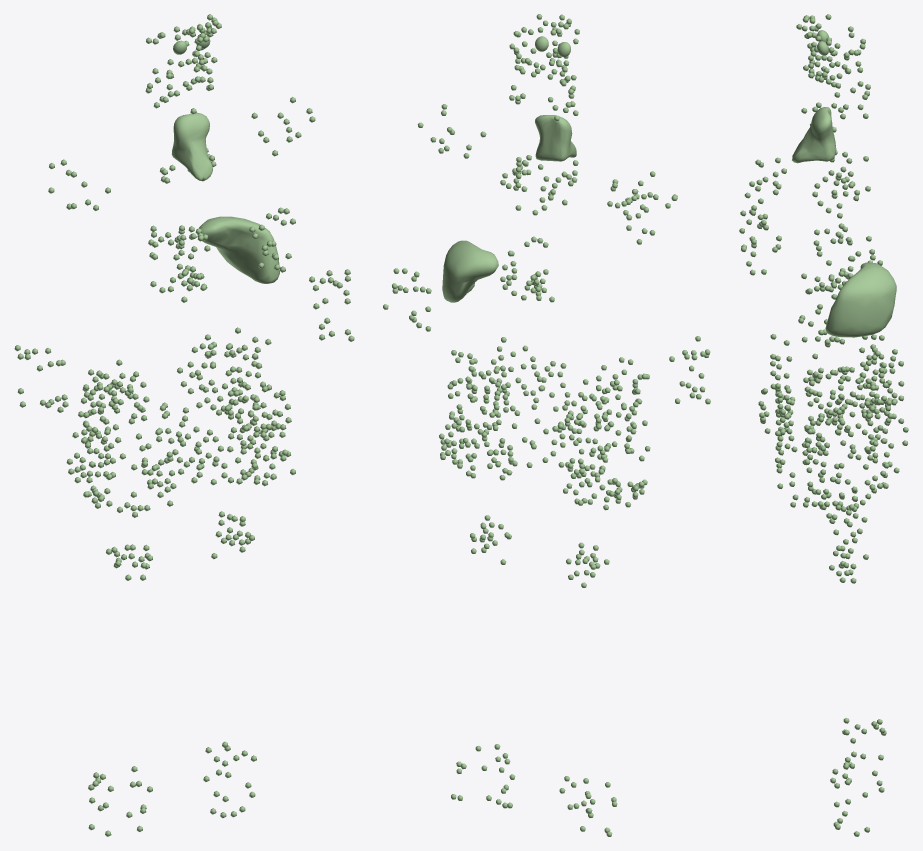
File: pediatric_child_10y_male.lymphatic.LOD1.glb
3 renders of one model, left to right at view 1: azimuth 30°, elevation 25°; view 2: azimuth 150°, elevation 25°; view 3: azimuth 270°, elevation 25°, orthographic. The views are drawn at different scales.
Visible parts, largest first — view 1: PEDIATRIC.CHILD_10Y.MALE.LYMPHATIC.LYMPHATIC_NODES_TRUNK, PEDIATRIC.CHILD_10Y.MALE.LYMPHATIC.SPLEEN, PEDIATRIC.CHILD_10Y.MALE.LYMPHATIC.THYMUS, PEDIATRIC.CHILD_10Y.MALE.LYMPHATIC.LYMPHATIC_NODES_ET, PEDIATRIC.CHILD_10Y.MALE.LYMPHATIC.LYMPHATIC_NODES_ARMS, PEDIATRIC.CHILD_10Y.MALE.LYMPHATIC.LYMPHATIC_NODES_LEGS, PEDIATRIC.CHILD_10Y.MALE.LYMPHATIC.LYMPHATIC_NODES_THORACIC; view 2: PEDIATRIC.CHILD_10Y.MALE.LYMPHATIC.LYMPHATIC_NODES_TRUNK, PEDIATRIC.CHILD_10Y.MALE.LYMPHATIC.SPLEEN, PEDIATRIC.CHILD_10Y.MALE.LYMPHATIC.THYMUS, PEDIATRIC.CHILD_10Y.MALE.LYMPHATIC.LYMPHATIC_NODES_ET, PEDIATRIC.CHILD_10Y.MALE.LYMPHATIC.LYMPHATIC_NODES_THORACIC, PEDIATRIC.CHILD_10Y.MALE.LYMPHATIC.LYMPHATIC_NODES_LEGS, PEDIATRIC.CHILD_10Y.MALE.LYMPHATIC.LYMPHATIC_NODES_ARMS; view 3: PEDIATRIC.CHILD_10Y.MALE.LYMPHATIC.LYMPHATIC_NODES_TRUNK, PEDIATRIC.CHILD_10Y.MALE.LYMPHATIC.SPLEEN, PEDIATRIC.CHILD_10Y.MALE.LYMPHATIC.THYMUS, PEDIATRIC.CHILD_10Y.MALE.LYMPHATIC.LYMPHATIC_NODES_ET, PEDIATRIC.CHILD_10Y.MALE.LYMPHATIC.LYMPHATIC_NODES_THORACIC, PEDIATRIC.CHILD_10Y.MALE.LYMPHATIC.LYMPHATIC_NODES_ARMS, PEDIATRIC.CHILD_10Y.MALE.LYMPHATIC.LYMPHATIC_NODES_LEGS, PEDIATRIC.CHILD_10Y.MALE.LYMPHATIC.LYMPHATIC_NODES_HEAD.
Part boxes in pixels (x1,y1,x2,y2): PEDIATRIC.CHILD_10Y.MALE.LYMPHATIC.LYMPHATIC_NODES_TRUNK: (48,97,315,580); PEDIATRIC.CHILD_10Y.MALE.LYMPHATIC.SPLEEN: (197,216,279,283); PEDIATRIC.CHILD_10Y.MALE.LYMPHATIC.THYMUS: (171,112,212,181); PEDIATRIC.CHILD_10Y.MALE.LYMPHATIC.LYMPHATIC_NODES_ET: (146,14,221,84); PEDIATRIC.CHILD_10Y.MALE.LYMPHATIC.LYMPHATIC_NODES_ARMS: (14,269,354,412); PEDIATRIC.CHILD_10Y.MALE.LYMPHATIC.LYMPHATIC_NODES_LEGS: (88,741,256,836); PEDIATRIC.CHILD_10Y.MALE.LYMPHATIC.LYMPHATIC_NODES_THORACIC: (148,148,216,302); PEDIATRIC.CHILD_10Y.MALE.LYMPHATIC.LYMPHATIC_NODES_TRUNK: (417,104,677,587); PEDIATRIC.CHILD_10Y.MALE.LYMPHATIC.SPLEEN: (442,240,498,302); PEDIATRIC.CHILD_10Y.MALE.LYMPHATIC.THYMUS: (535,115,576,161); PEDIATRIC.CHILD_10Y.MALE.LYMPHATIC.LYMPHATIC_NODES_ET: (509,14,579,81); PEDIATRIC.CHILD_10Y.MALE.LYMPHATIC.LYMPHATIC_NODES_THORACIC: (500,155,578,302); PEDIATRIC.CHILD_10Y.MALE.LYMPHATIC.LYMPHATIC_NODES_LEGS: (451,744,617,836); PEDIATRIC.CHILD_10Y.MALE.LYMPHATIC.LYMPHATIC_NODES_ARMS: (383,268,710,404); PEDIATRIC.CHILD_10Y.MALE.LYMPHATIC.LYMPHATIC_NODES_TRUNK: (739,90,908,583); PEDIATRIC.CHILD_10Y.MALE.LYMPHATIC.SPLEEN: (825,262,896,337); PEDIATRIC.CHILD_10Y.MALE.LYMPHATIC.THYMUS: (792,107,836,163); PEDIATRIC.CHILD_10Y.MALE.LYMPHATIC.LYMPHATIC_NODES_ET: (796,14,865,82); PEDIATRIC.CHILD_10Y.MALE.LYMPHATIC.LYMPHATIC_NODES_THORACIC: (819,150,882,292); PEDIATRIC.CHILD_10Y.MALE.LYMPHATIC.LYMPHATIC_NODES_ARMS: (801,223,852,430); PEDIATRIC.CHILD_10Y.MALE.LYMPHATIC.LYMPHATIC_NODES_LEGS: (830,718,886,836); PEDIATRIC.CHILD_10Y.MALE.LYMPHATIC.LYMPHATIC_NODES_HEAD: (813,61,870,112).
Bounding box in the file's own units: 0.392 × 0.9167 × 0.1784.
